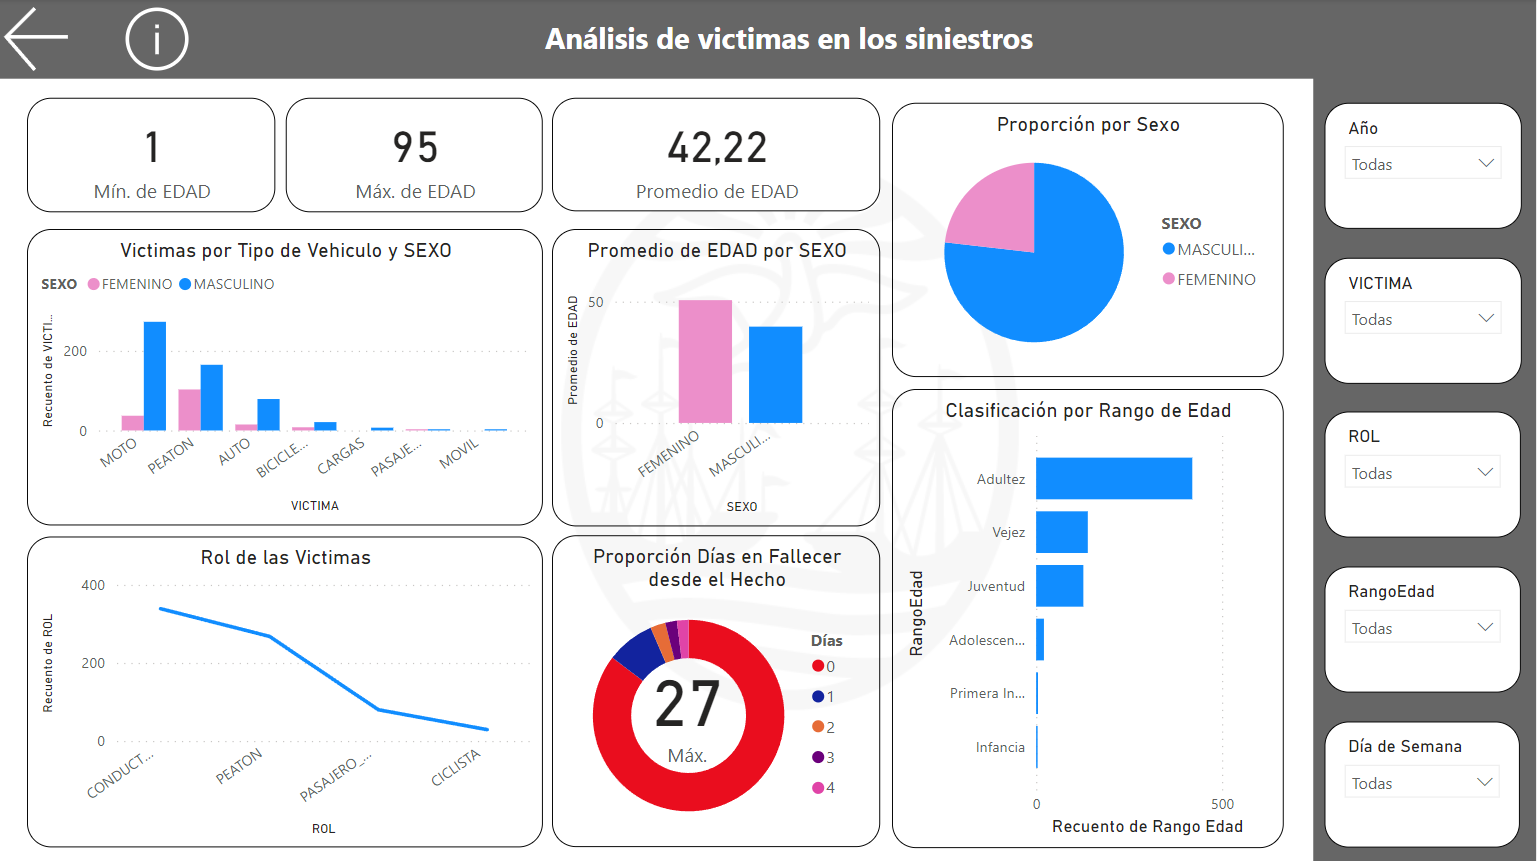

The dashboard page shown, as its layout file describes it:
{"tool":"powerbi","page":{"name":"Victimas","canvas":[1280,720],"ordinal":2},"visuals":[{"type":"shape","box":[0,0,1280,66.2],"z":0},{"type":"textbox","box":[392.5,11,531,42.5],"z":1000},{"type":"pieChart","title":"Proporción por Sexo","fields":{"Category":["homicidios_victimas_proc.SEXO"],"Y":["CountNonNull(homicidios_victimas_proc.SEXO)"]},"box":[13.8,191.2,347.5,227.5],"z":2000},{"type":"columnChart","fields":{"Y":["Avg(homicidios_victimas_proc.EDAD)"],"Category":["homicidios_victimas_proc.SEXO"]},"box":[872.5,191.2,392.5,227.5],"z":3000},{"type":"card","fields":{"Values":["Min(homicidios_victimas_proc.EDAD)"]},"box":[13.8,72.5,206.2,105],"z":4000},{"type":"card","fields":{"Values":["Max(homicidios_victimas_proc.EDAD)"]},"box":[235,72.5,225,105],"z":5000},{"type":"card","fields":{"Values":["Avg(homicidios_victimas_proc.EDAD)"]},"box":[471.2,72.5,226.2,105],"z":6000},{"type":"donutChart","title":"Proporción Días en Fallecer desde el Hecho","fields":{"Category":["homicidios_victimas_proc.diff_date_de"],"Y":["Divide(CountNonNull(homicidios_victimas_proc.diff_date_de), ScopedEval(CountNonNull(homicidios_victimas_proc.diff_date_d"]},"box":[872.5,432.5,392.5,277.5],"z":7000},{"type":"card","fields":{"Values":["Max(homicidios_victimas_proc.diff_date_de)"]},"box":[941.8,520.2,166.5,122.1],"z":8000},{"type":"clusteredBarChart","title":"Clasificación por Rango de Edad","fields":{"Category":["homicidios_victimas_proc.RangoEdad"],"Y":["CountNonNull(homicidios_victimas_proc.RangoEdad)"]},"box":[13.8,432.5,347.5,277.5],"z":9000},{"type":"slicer","fields":{"Values":["homicidios_victimas_proc.AAAA"]},"box":[710,72.5,143.8,105],"z":10000},{"type":"slicer","fields":{"Values":["homicidios_victimas_proc.VICTIMA"]},"box":[872.5,70,193.8,107.5],"z":11000},{"type":"slicer","fields":{"Values":["homicidios_victimas_proc.ROL"]},"box":[1076.2,70,188.8,107.5],"z":12000},{"type":"lineChart","title":"Rol de las Victimas","fields":{"Category":["homicidios_victimas_proc.ROL"],"Y":["CountNonNull(homicidios_victimas_proc.ROL)"]},"box":[373.8,432.5,480,277.5],"z":13000},{"type":"clusteredColumnChart","title":"Victimas por Tipo de Vehiculo y SEXO","fields":{"Category":["homicidios_victimas_proc.VICTIMA"],"Y":["CountNonNull(homicidios_victimas_proc.VICTIMA)"],"Series":["homicidios_victimas_proc.SEXO"]},"box":[373.8,191.2,480,227.5],"z":14000},{"type":"actionButton","box":[0,0,99.9,66.6],"z":15000},{"type":"actionButton","box":[99.9,0,74.9,66.6],"z":16000}]}

Visuals, with their boxes in screenshot pixels (x1, y1, x2, y2), scaled from the page's 1280x720 canvas onto the 1537x861 screenshot:
shape: left=0, top=0, right=1536, bottom=79
textbox: left=471, top=13, right=1109, bottom=64
"Proporción por Sexo" pieChart: left=17, top=229, right=434, bottom=501
columnChart - Avg(homicidios_victimas_proc.EDAD) x homicidios_victimas_proc.SEXO: left=1048, top=229, right=1519, bottom=501
card - Min(homicidios_victimas_proc.EDAD): left=17, top=87, right=264, bottom=212
card - Max(homicidios_victimas_proc.EDAD): left=282, top=87, right=552, bottom=212
card - Avg(homicidios_victimas_proc.EDAD): left=566, top=87, right=837, bottom=212
"Proporción Días en Fallecer desde el Hecho" donutChart: left=1048, top=517, right=1519, bottom=849
card - Max(homicidios_victimas_proc.diff_date_de): left=1131, top=622, right=1331, bottom=768
"Clasificación por Rango de Edad" clusteredBarChart: left=17, top=517, right=434, bottom=849
slicer - homicidios_victimas_proc.AAAA: left=853, top=87, right=1025, bottom=212
slicer - homicidios_victimas_proc.VICTIMA: left=1048, top=84, right=1280, bottom=212
slicer - homicidios_victimas_proc.ROL: left=1292, top=84, right=1519, bottom=212
"Rol de las Victimas" lineChart: left=449, top=517, right=1025, bottom=849
"Victimas por Tipo de Vehiculo y SEXO" clusteredColumnChart: left=449, top=229, right=1025, bottom=501
actionButton: left=0, top=0, right=120, bottom=80
actionButton: left=120, top=0, right=210, bottom=80
